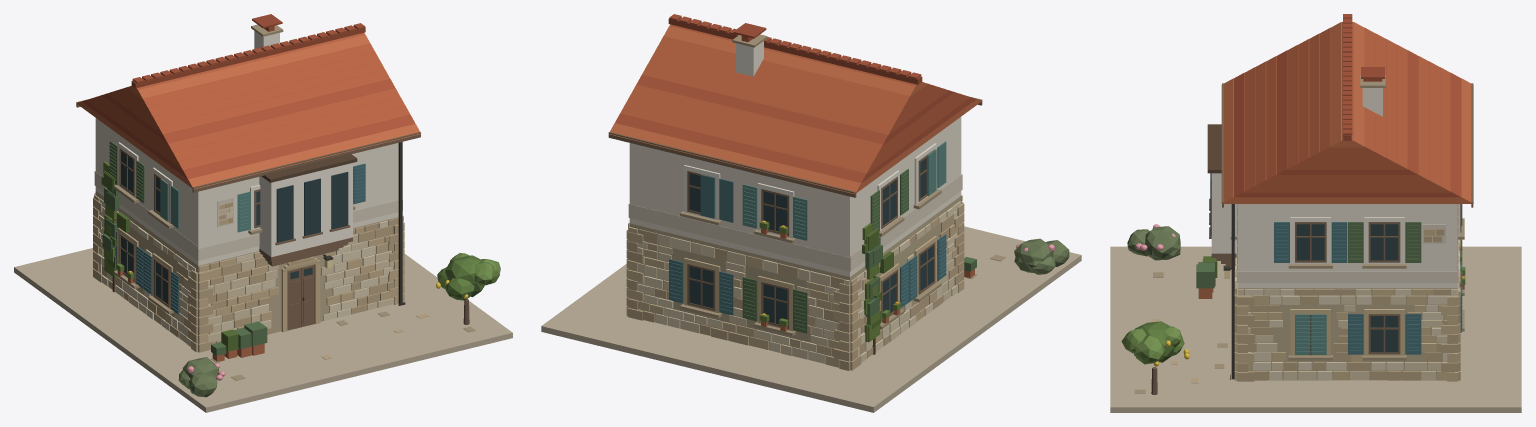
The model's file is ev-karisik-cumbali.glb.
The picture shows the model from 3 angles, left to right: view 1: azimuth 30°, elevation 25°; view 2: azimuth 150°, elevation 25°; view 3: azimuth 270°, elevation 25°; orthographic projection. The views are drawn at different scales.
Parts seen in each view (by area): view 1: zemin, kiremit1, badana2, kiremit2, tas3, kiremit3, tas2, badana, ahsap, cam, tas4, harc (+16 smaller); view 2: zemin, kiremit1, badana2, kiremit2, tas2, kiremit3, tas3, harc, ahsap, badana_kir, tas4, cam (+11 smaller); view 3: zemin, kiremit1, badana2, kiremit2, kiremit3, tas3, tas2, harc, badana, cam, badana_kir, tas4 (+12 smaller).
Boxes of the visible parts, x1,y1,x2,y2 form: zemin: [14, 248, 512, 412]; kiremit1: [86, 33, 410, 170]; badana2: [95, 118, 398, 265]; kiremit2: [82, 23, 415, 178]; tas3: [93, 198, 429, 359]; kiremit3: [77, 34, 420, 189]; tas2: [93, 194, 404, 352]; badana: [118, 31, 352, 257]; ahsap: [76, 99, 420, 330]; cam: [121, 151, 348, 306]; tas4: [94, 192, 398, 346]; harc: [95, 191, 398, 343]; zemin: [541, 226, 1081, 412]; kiremit1: [620, 24, 970, 174]; badana2: [629, 117, 961, 276]; kiremit2: [615, 14, 976, 182]; tas2: [626, 195, 964, 367]; kiremit3: [609, 26, 981, 194]; tas3: [626, 214, 964, 370]; harc: [629, 196, 961, 361]; ahsap: [608, 97, 982, 328]; badana_kir: [628, 174, 962, 271]; tas4: [628, 201, 960, 363]; cam: [689, 156, 933, 324]; zemin: [1110, 246, 1521, 412]; kiremit1: [1243, 22, 1451, 192]; badana2: [1237, 204, 1457, 288]; kiremit2: [1234, 14, 1461, 197]; kiremit3: [1221, 22, 1473, 203]; tas3: [1151, 204, 1460, 383]; tas2: [1234, 204, 1460, 381]; harc: [1237, 288, 1457, 380]; badana: [1211, 88, 1460, 263]; cam: [1210, 173, 1399, 352]; badana_kir: [1236, 224, 1458, 282]; tas4: [1235, 250, 1459, 380].
Bounding box in the file's own units: 12.29 × 9.64 × 13.
